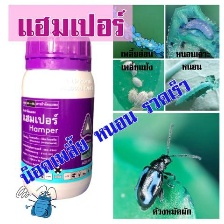insecticide: (14, 27, 98, 203)
